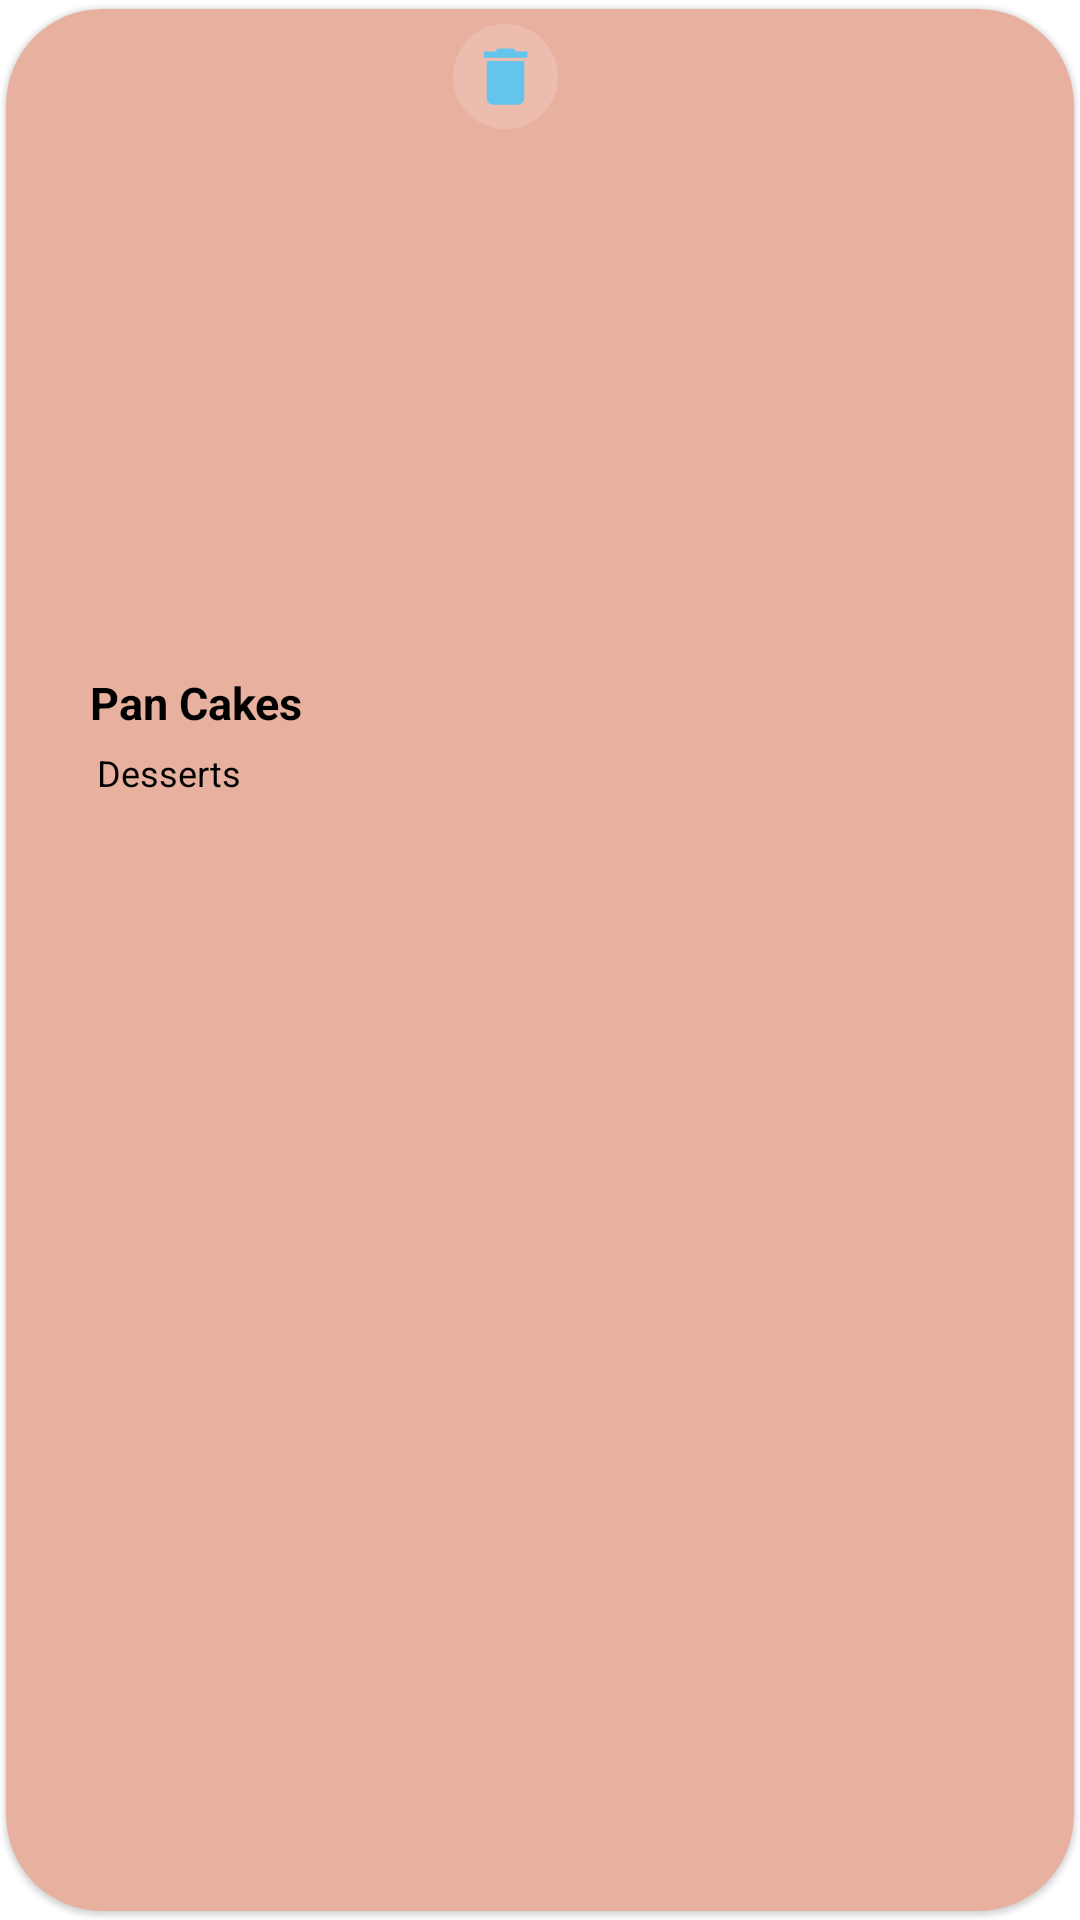

Named icons in this screenshot (1080 x 1920) and their bounding boxes, {"left": x1, "top": y1, "right": x2, "bottom": y2}:
delete: {"left": 483, "top": 48, "right": 528, "bottom": 105}
